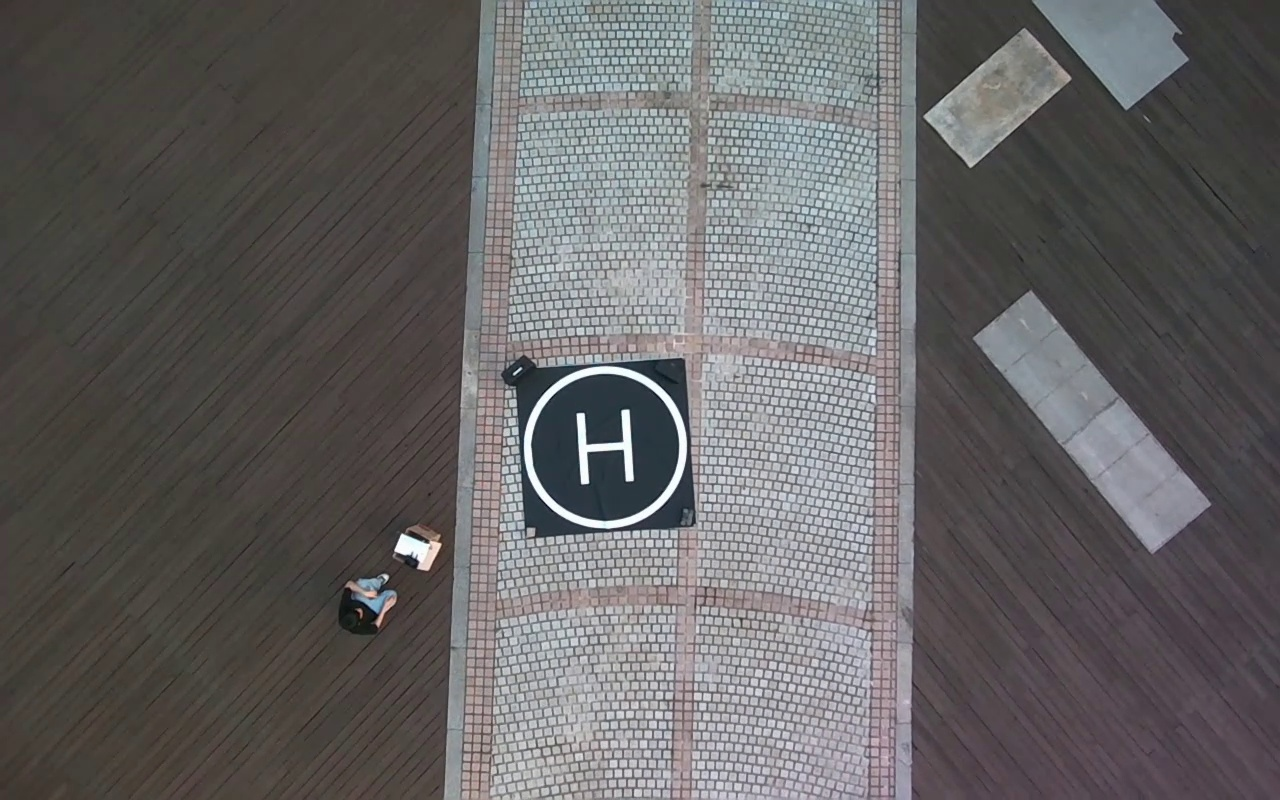H: (573, 408, 635, 485)
heliport: (524, 366, 686, 529)
